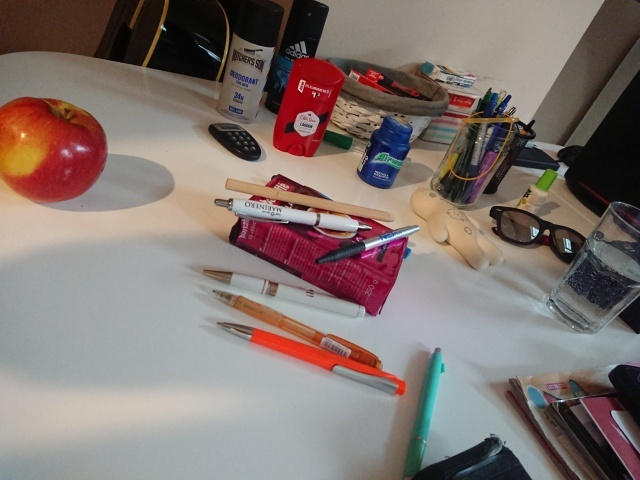Barcaffe Classic Original 225g: (226, 172, 411, 319)
